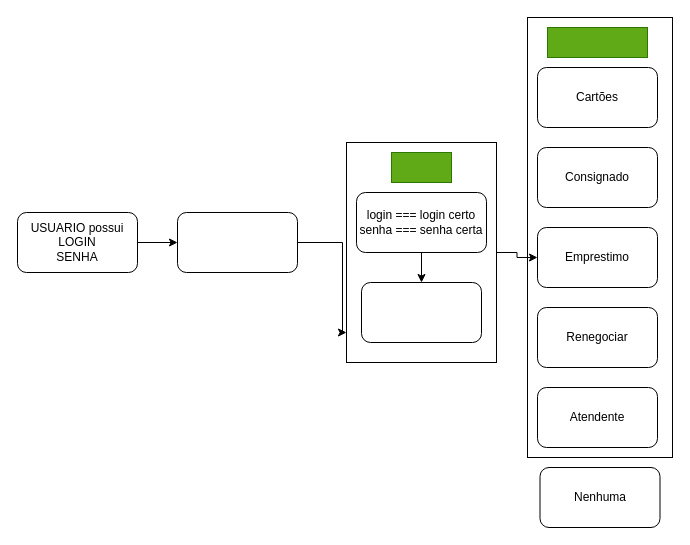
Image size: 690x545. Some labels were removed from this diagram. The shapes that lost their labels are listed below. From the top down, each one's centre as x and y in pixels, then its label:
point (597, 42): SWITCH CASE
point (421, 167): IF ELSE
point (237, 242): pedir login e senha ao usuário
point (421, 312): login != login certo senha != senha certa
